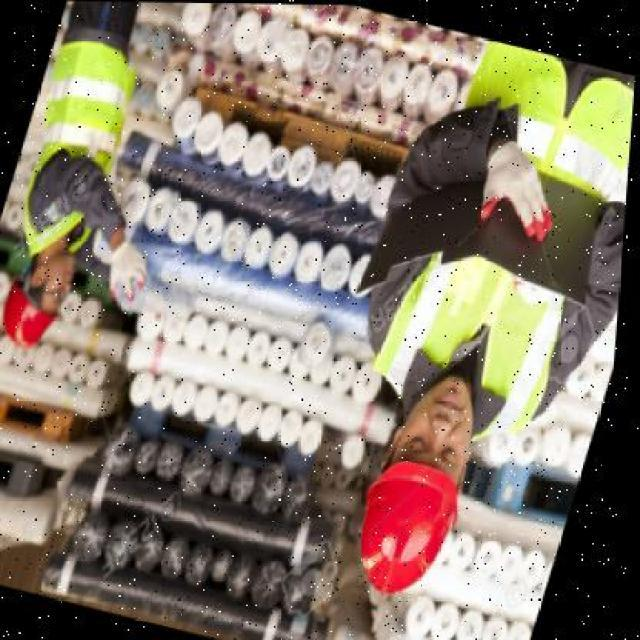helmet: (342, 442, 486, 608), (0, 266, 83, 360)
vest: (368, 32, 637, 428), (0, 30, 156, 257)
